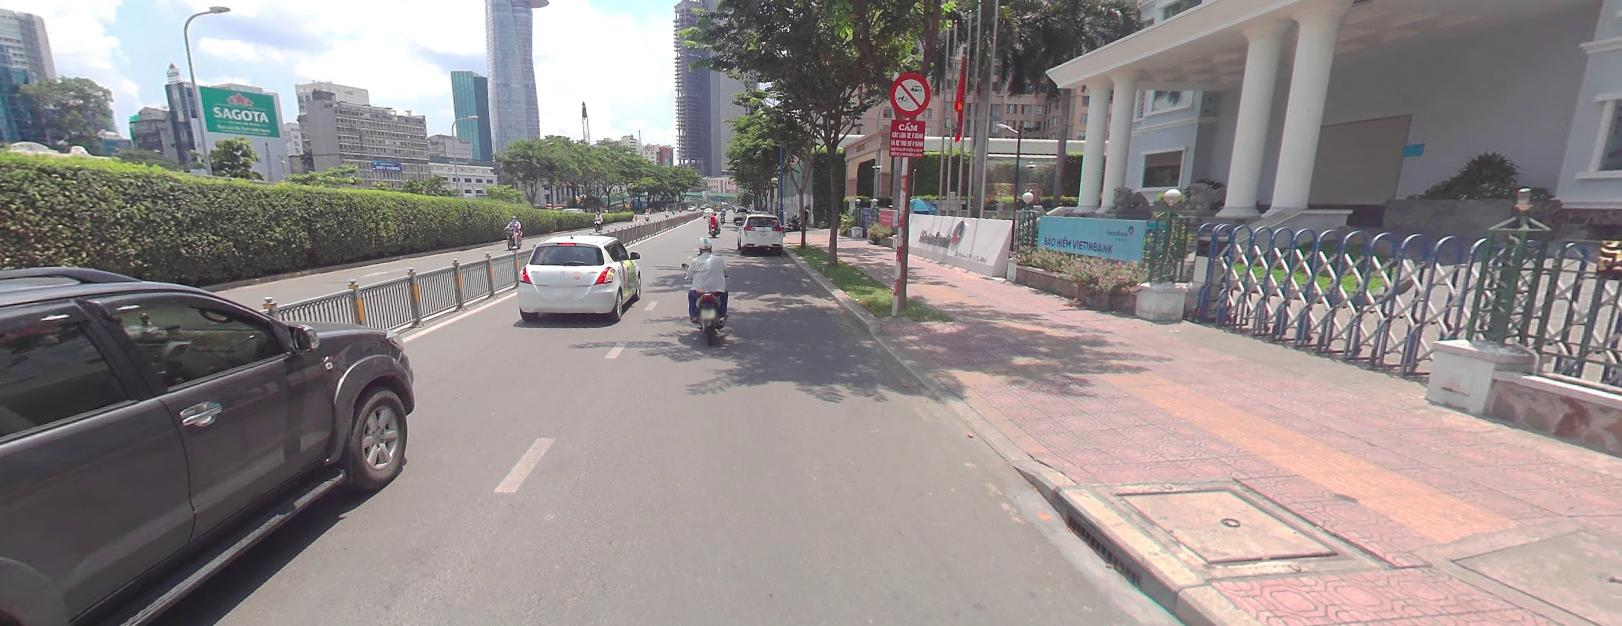Cam con lai: (890, 71, 929, 115)
